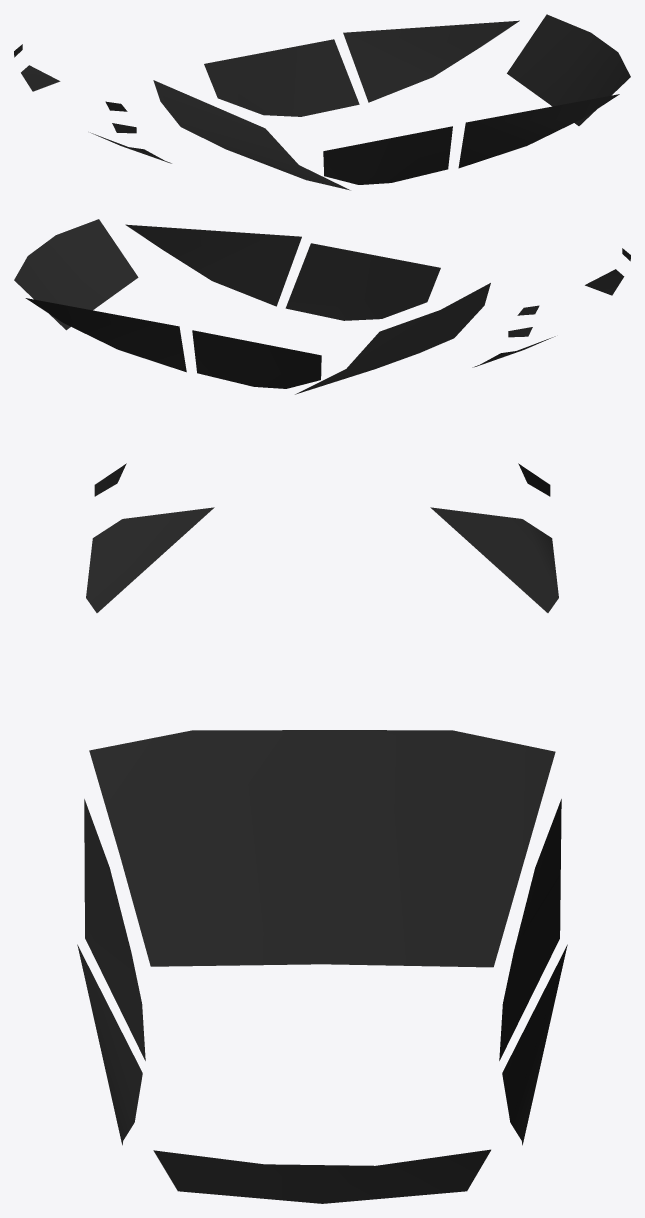
The model's file is FN_glass_d0.5.obj.
3 renders of one model, top to bottom at view 1: azimuth 30°, elevation 25°; view 2: azimuth 150°, elevation 25°; view 3: azimuth 270°, elevation 25°, orthographic. The views are drawn at different scales.
Parts seen in each view (by area): view 1: FN_glass; view 2: FN_glass; view 3: FN_glass.
Part boxes in pixels (left/top/right/bottom): FN_glass: left=14, top=14, right=630, bottom=190; FN_glass: left=14, top=219, right=630, bottom=394; FN_glass: left=77, top=463, right=567, bottom=1203.
Bounding box in the file's own units: 3.91 × 1.07 × 1.53.
1 material, 1 textured.
